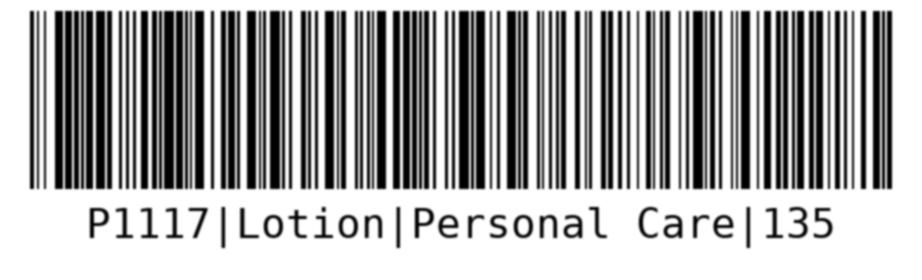milk: (21, 3, 905, 256)
